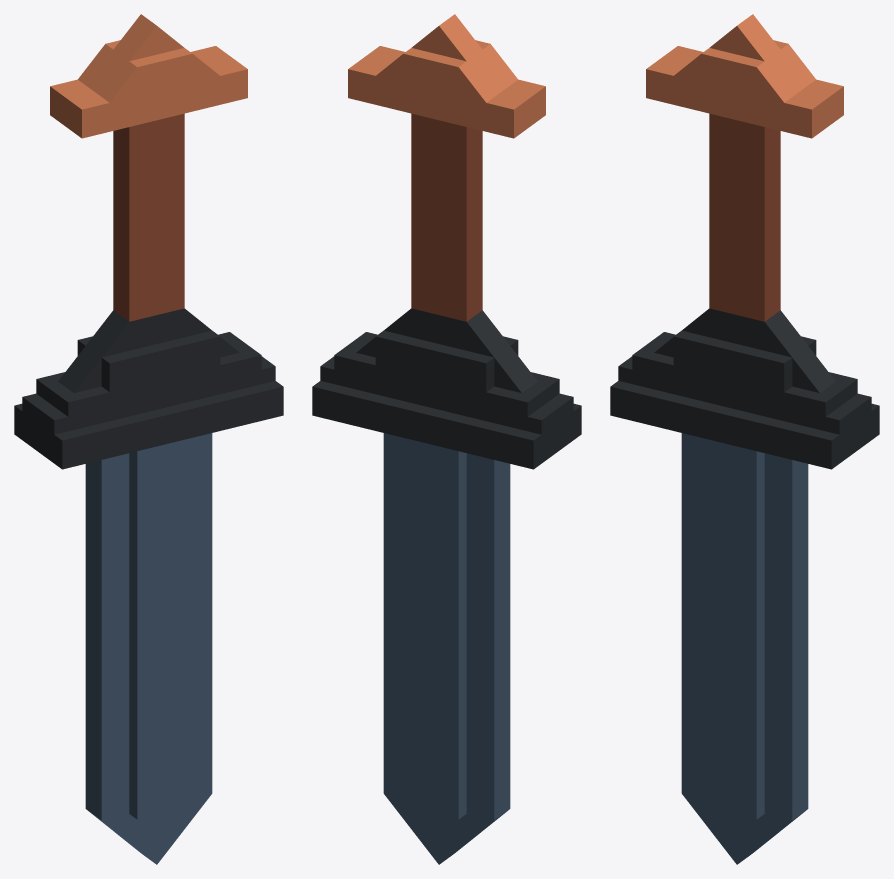
The model's file is wholesword.obj.
3 renders of one model, left to right at view 1: azimuth 30°, elevation 25°; view 2: azimuth 150°, elevation 25°; view 3: azimuth 330°, elevation 25°, orthographic.
Bounding box in the file's own units: 8 × 29 × 3.
